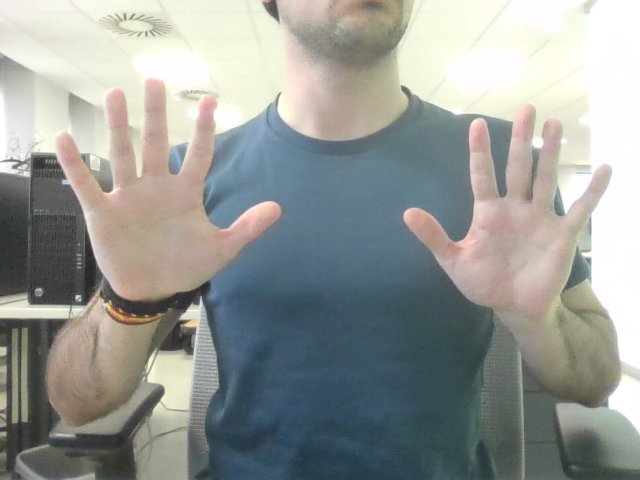Manos Arriba: (90, 97, 578, 281)
